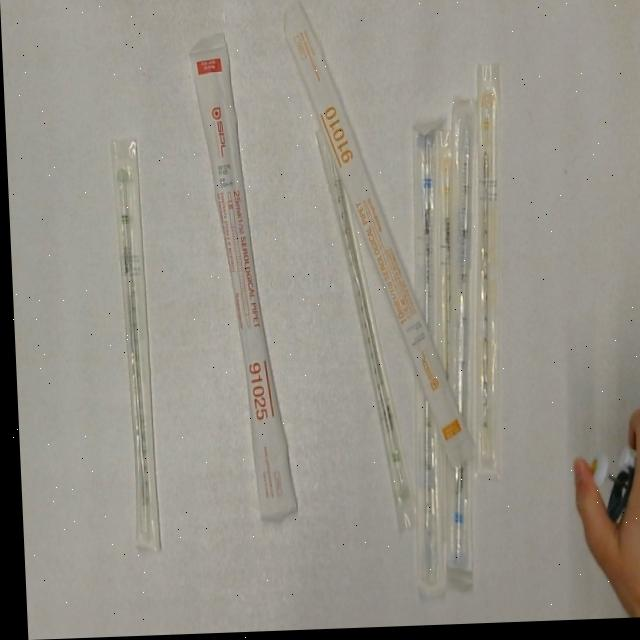Serelogical Pipet 1 mL: (456, 64, 516, 484)
Serelogical Pipet 10 mL: (281, 0, 474, 477)
Serelogical Pipet 2 mL: (314, 125, 416, 541), (103, 131, 160, 556)
Serelogical Pipet 25 mL: (186, 34, 297, 531)
Serelogical Pipet 5 mL: (424, 95, 498, 583), (393, 112, 456, 606)
Single Channel Pipettor: (583, 444, 640, 529)
